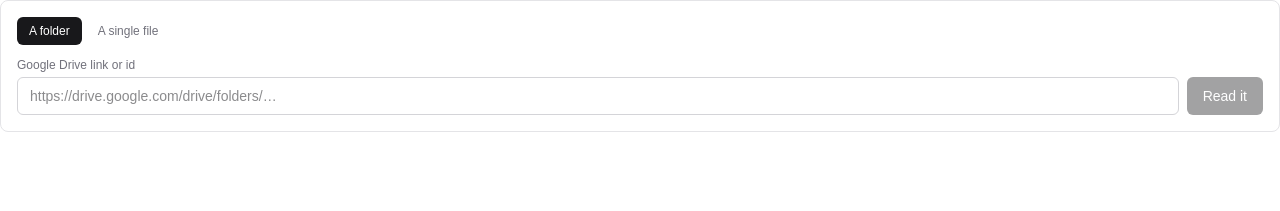
Test: ImportPlanner — the hierarchy, stated out loud › surfaces a scan failure rather than an empty screen
Type "abc" into the field labelled "Google Drive link or id" at (598, 96), box [17,77,1179,115]
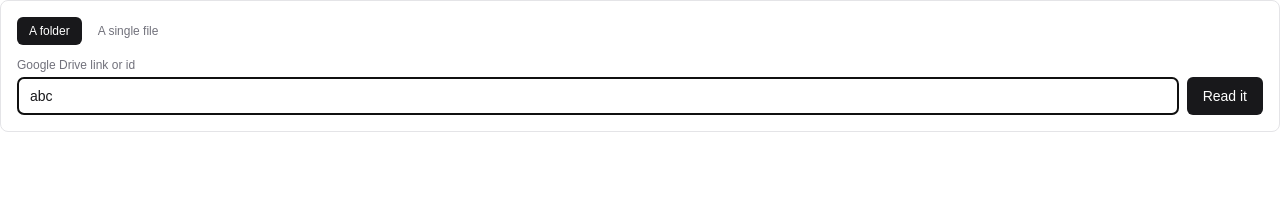
Click the button "Read it" at (1225, 96), box [1187,77,1263,115]
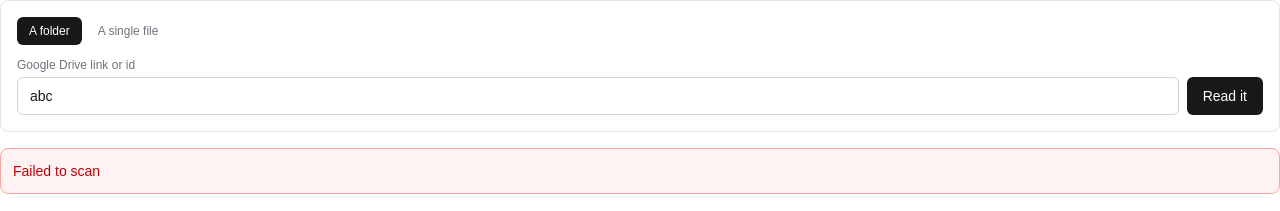
Result: the text "Failed to scan" is shown at [0,148,1279,194]
